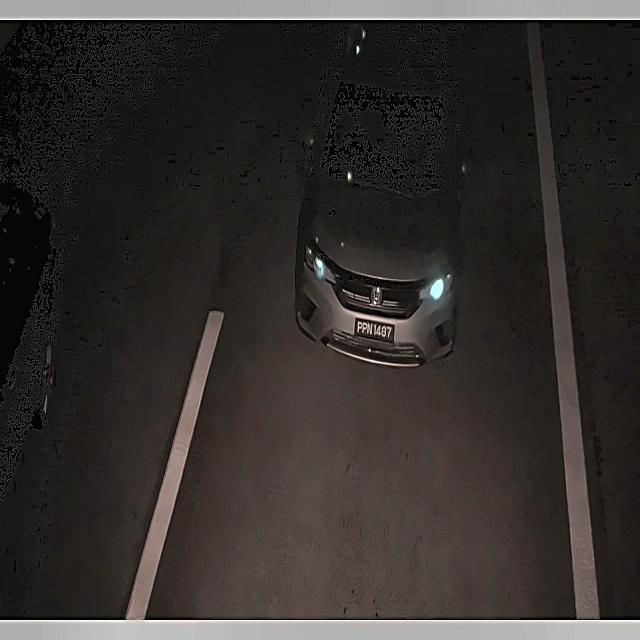car: (350, 311, 402, 348)
